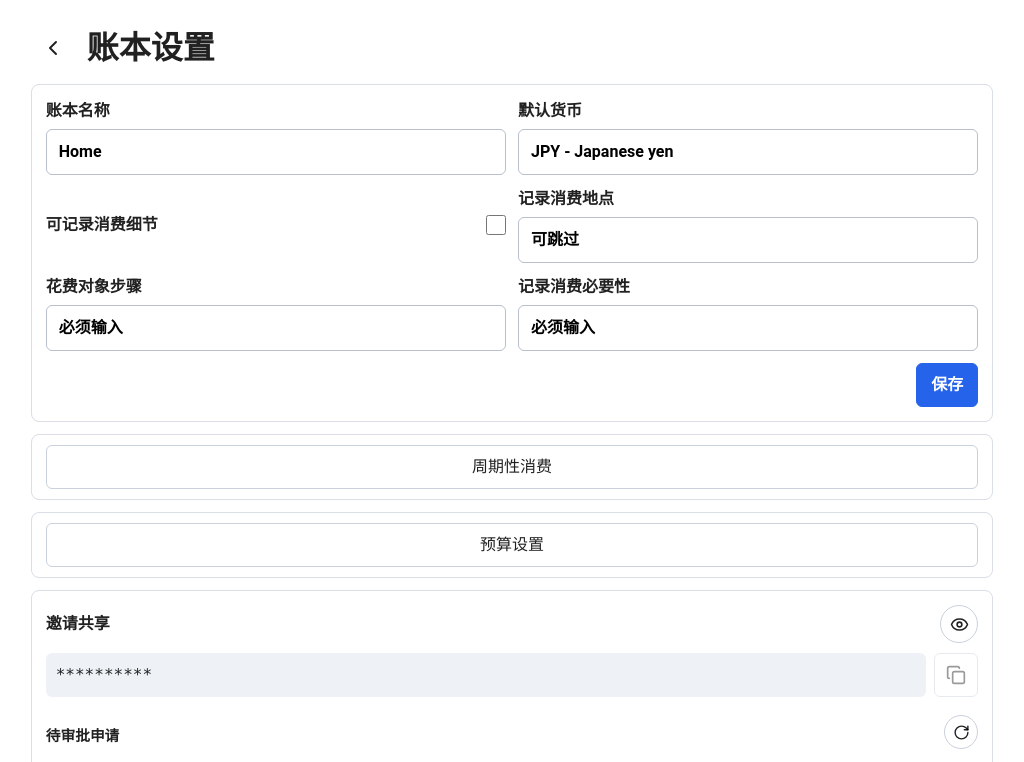
Scenario: Settings › saves ledger name and shows a floating success message
The width and height of the screenshot is (1024, 762).
Replace the text in the field labelled "账本名称" with "New Home" at (276, 152), box [46, 129, 506, 175]
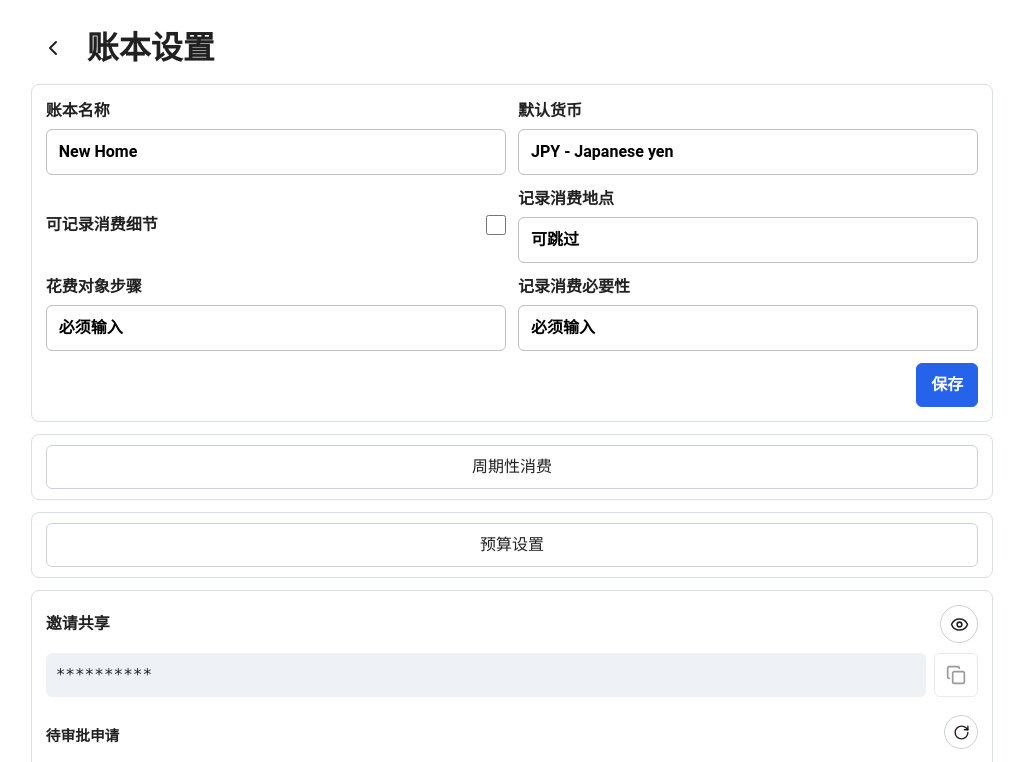
Submit the form, box [46, 99, 978, 407]
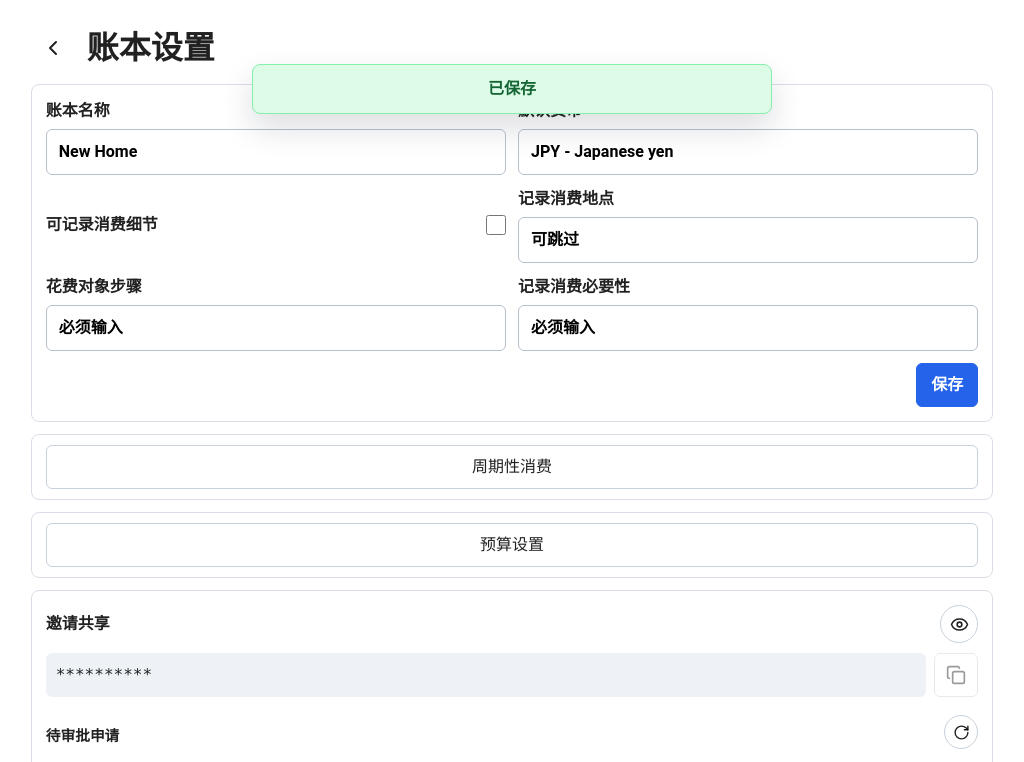
Check: the text "已保存" is shown, box [252, 64, 772, 114]
